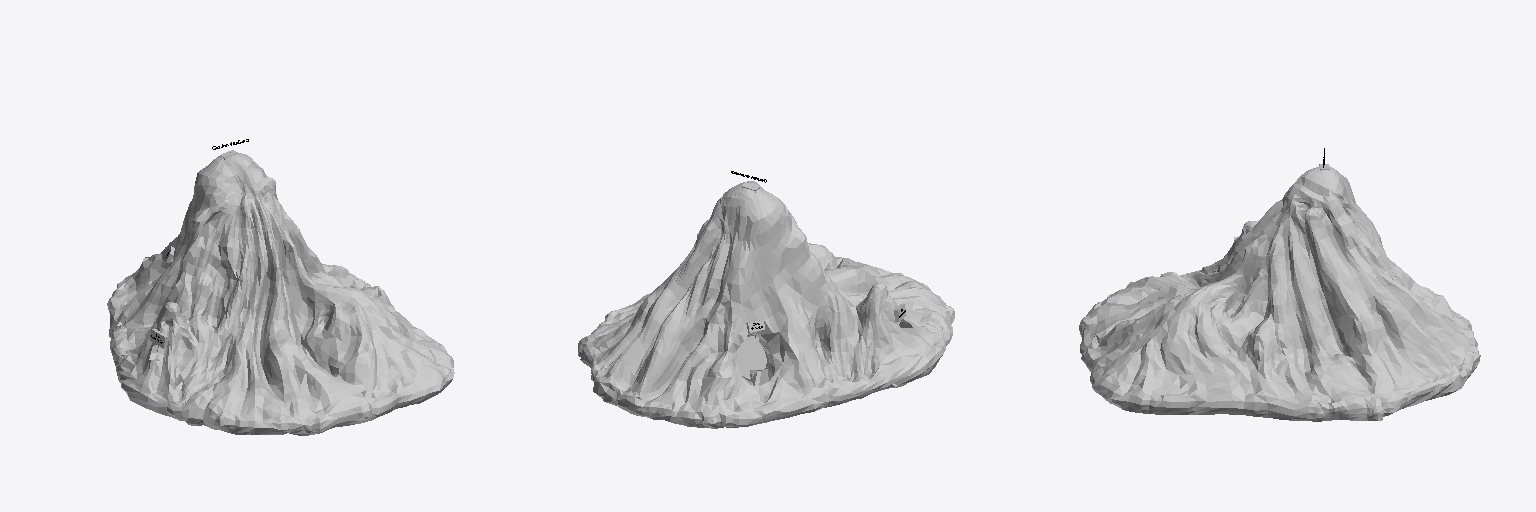
The model's file is mountainpilote.obj.
3 renders of one model, left to right at view 1: azimuth 30°, elevation 25°; view 2: azimuth 150°, elevation 25°; view 3: azimuth 270°, elevation 25°, orthographic.
Parts seen in each view (by area): view 1: obj1; view 2: obj1; view 3: obj1.
Part boxes in pixels (bbox=[...]): obj1: bbox=[107, 153, 454, 435]; obj1: bbox=[578, 181, 954, 428]; obj1: bbox=[1079, 166, 1480, 421].
Size of the model in its own units: 63.58 by 41.16 by 76.2.